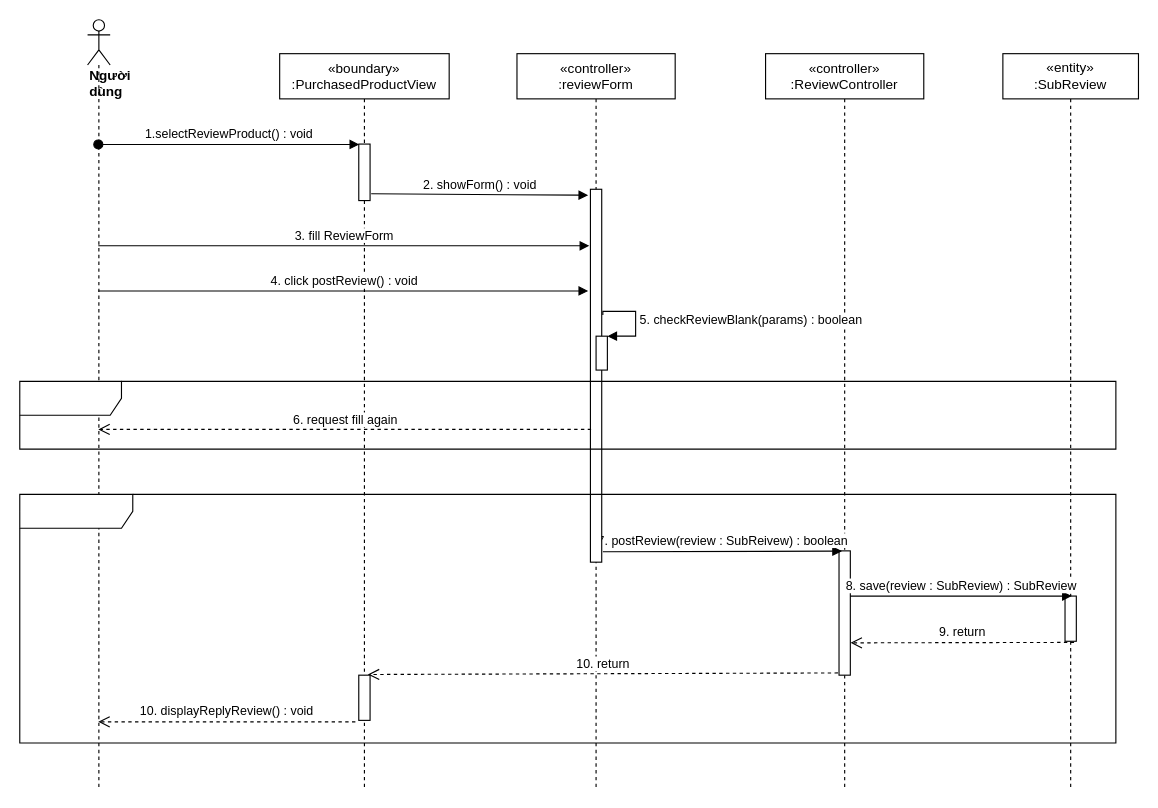
Some shapes in this 1158 by 808 pixel diagram are drawn without their labels. The centre of each missing label's shape, as x and y in pixels:
"check blank true" belongs at point 567,618.
"review is blank" belongs at point 567,414.
